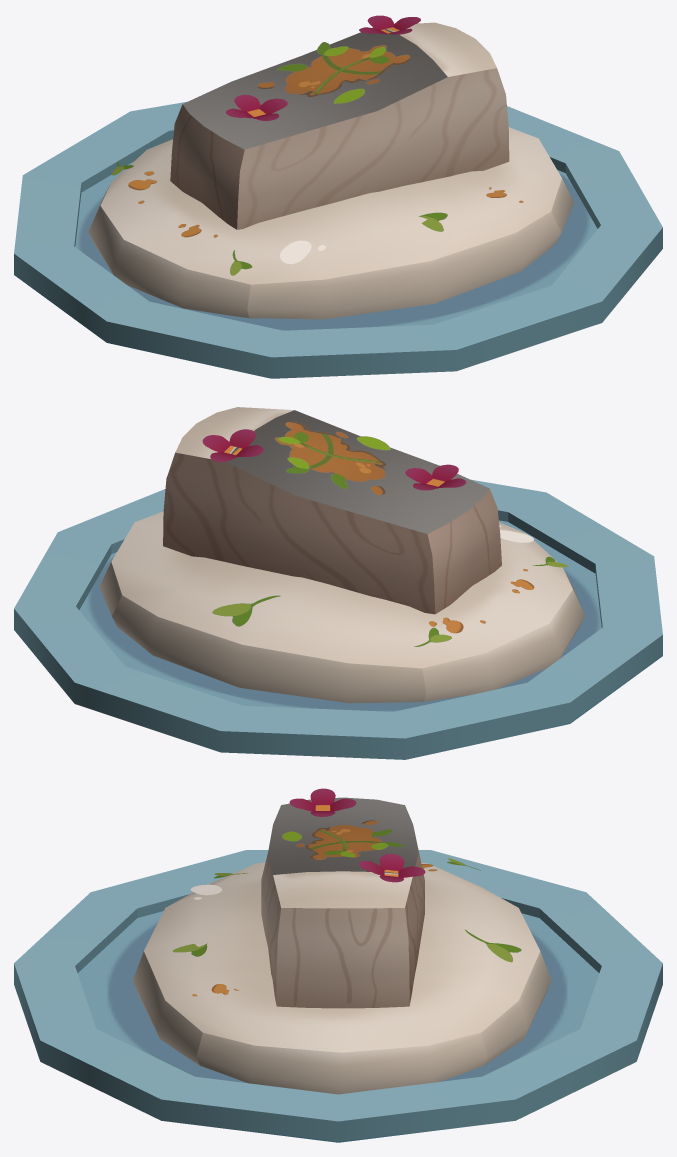
Rendered from Fish_dish.fbx.
3 renders of one model, top to bottom at view 1: azimuth 30°, elevation 25°; view 2: azimuth 150°, elevation 25°; view 3: azimuth 270°, elevation 25°, orthographic.
Visible parts, largest first — view 1: Cylinder036; view 2: Cylinder036; view 3: Cylinder036.
Part boxes in pixels (x1,y1,x2,y2): Cylinder036: [14, 15, 662, 378]; Cylinder036: [14, 407, 662, 759]; Cylinder036: [14, 788, 662, 1142].
Bounding box in the file's own units: 32.45 × 10.54 × 32.78.
